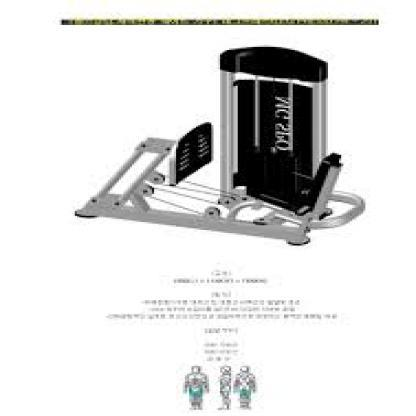leg press: (48, 39, 378, 253)
